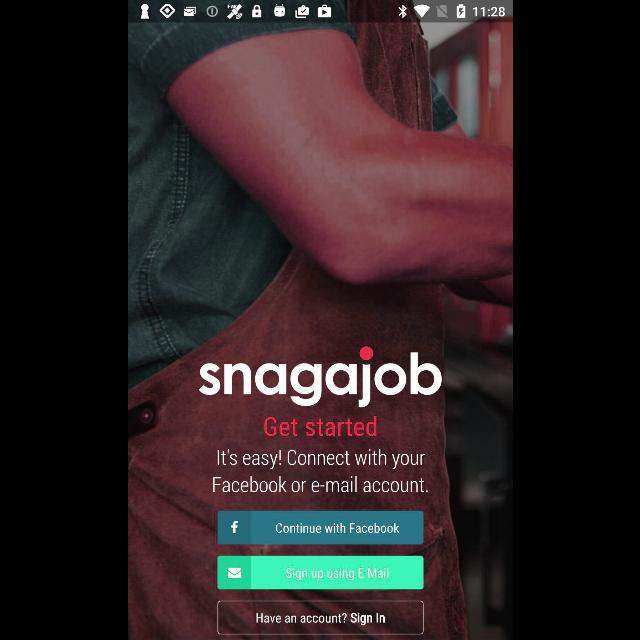backgroundimage: (128, 22, 512, 640)
image: (198, 346, 442, 408)
text: (212, 448, 428, 494), (264, 416, 376, 438)
textbutton: (217, 601, 423, 635), (217, 556, 423, 590), (217, 511, 423, 544)
uppertaskbar: (128, 1, 512, 23)
